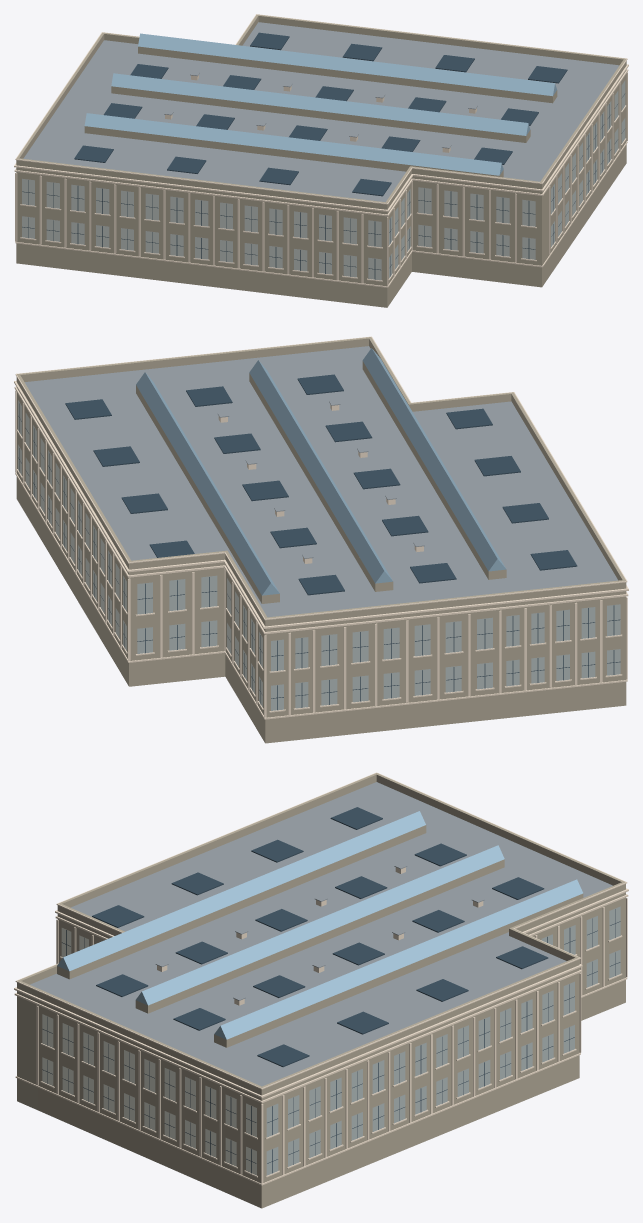
The picture shows the model from 3 angles, top to bottom: view 1: azimuth 30°, elevation 25°; view 2: azimuth 150°, elevation 25°; view 3: azimuth 270°, elevation 25°; orthographic projection. The views are drawn at different scales.
Visible parts, largest first — view 1: stone, roof, glass, window, trim, metal; view 2: roof, stone, window, trim, metal, glass; view 3: stone, roof, window, glass, trim, metal.
Boxes of the visible parts, left/top/right/bottom form: stone: left=16, top=14, right=626, bottom=307; roof: left=23, top=22, right=619, bottom=202; glass: left=84, top=33, right=556, bottom=175; window: left=22, top=80, right=625, bottom=280; trim: left=14, top=14, right=628, bottom=287; metal: left=22, top=32, right=624, bottom=279; roof: left=25, top=346, right=618, bottom=617; stone: left=16, top=337, right=626, bottom=743; window: left=18, top=400, right=620, bottom=710; trim: left=14, top=336, right=628, bottom=719; metal: left=18, top=374, right=620, bottom=710; glass: left=136, top=348, right=506, bottom=595; stone: left=17, top=773, right=625, bottom=1208; roof: left=30, top=782, right=612, bottom=1086; window: left=42, top=906, right=620, bottom=1175; glass: left=57, top=811, right=582, bottom=1039; trim: left=14, top=772, right=628, bottom=1185; metal: left=42, top=807, right=620, bottom=1173.
Size of the model in its own units: 81.33 by 15.8 by 66.5.
